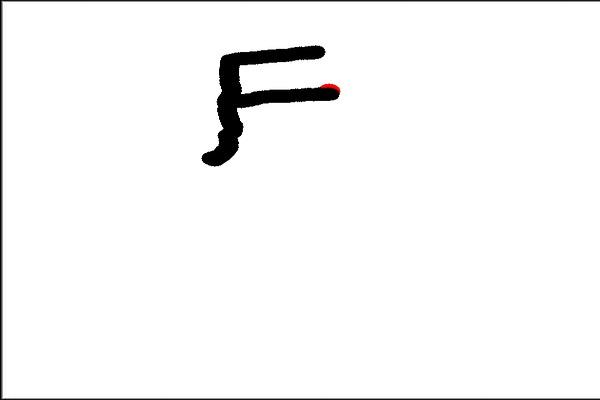F: (196, 40, 341, 170)
